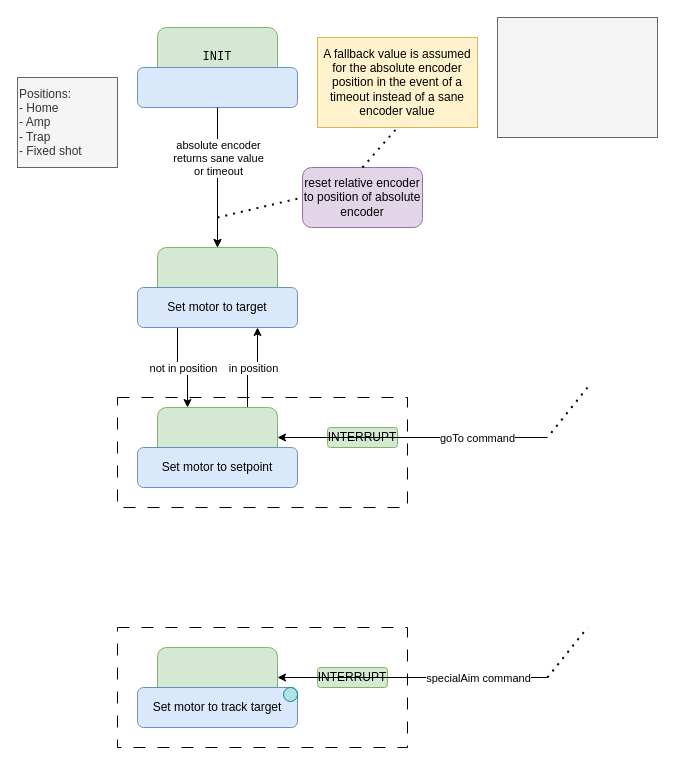
Image size: 675x765. Some labels were removed from this diagram. Each missing label, with the box of its shape:
IN_POSITION: (156, 246, 278, 308)
MOVING: (156, 406, 278, 468)
nothing: (136, 66, 298, 108)
Pivot Motors: - Falcon Sensors: - absolute encoder - reverse/lower limit sensor: (496, 16, 658, 138)
SPECIAL_AIMING: (156, 646, 278, 708)
